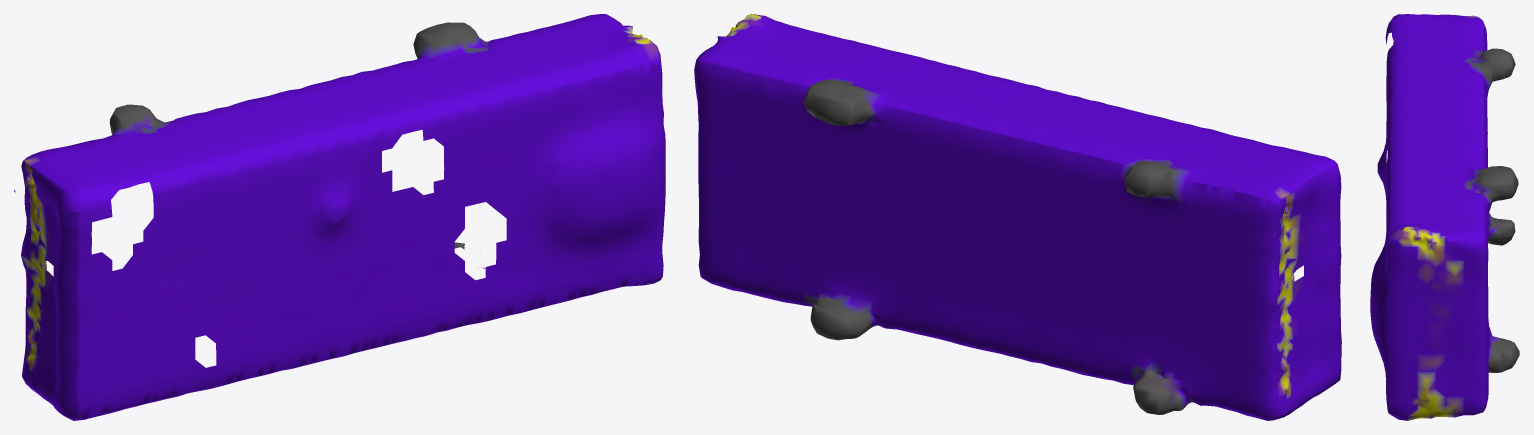
3 renders of one model, left to right at view 1: azimuth 30°, elevation 25°; view 2: azimuth 150°, elevation 25°; view 3: azimuth 270°, elevation 25°, orthographic. The views are drawn at different scales.
Visible parts, largest first — view 1: 248782aa-e7f7-4c85-bc2c-e02151ac4081; view 2: 248782aa-e7f7-4c85-bc2c-e02151ac4081; view 3: 248782aa-e7f7-4c85-bc2c-e02151ac4081.
Part boxes in pixels (x1=…): 248782aa-e7f7-4c85-bc2c-e02151ac4081: x1=14, y1=14, x2=665, y2=420; 248782aa-e7f7-4c85-bc2c-e02151ac4081: x1=694, y1=14, x2=1341, y2=420; 248782aa-e7f7-4c85-bc2c-e02151ac4081: x1=1370, y1=14, x2=1519, y2=420.
Size of the model in its own units: 0.9952 by 0.3962 by 0.2715.
